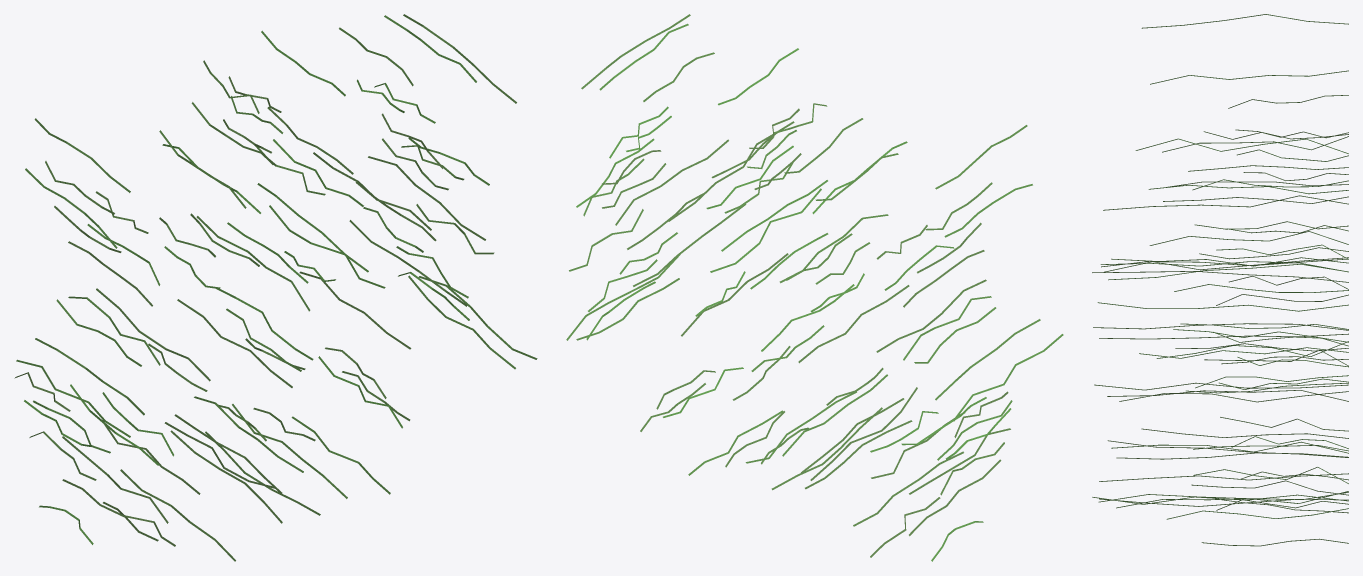
Rendered from tall_grass.glb.
3 renders of one model, left to right at view 1: azimuth 30°, elevation 25°; view 2: azimuth 150°, elevation 25°; view 3: azimuth 270°, elevation 25°, orthographic. The views are drawn at different scales.
Parts seen in each view (by area): view 1: geometry_0; view 2: geometry_0; view 3: geometry_0.
Part boxes in pixels (box(x1,y1,x2,y2)): geometry_0: box(14, 14, 537, 561); geometry_0: box(566, 14, 1063, 561); geometry_0: box(1092, 14, 1348, 546).
Bounding box in the file's own units: 1.01 × 1.01 × 0.4995.
